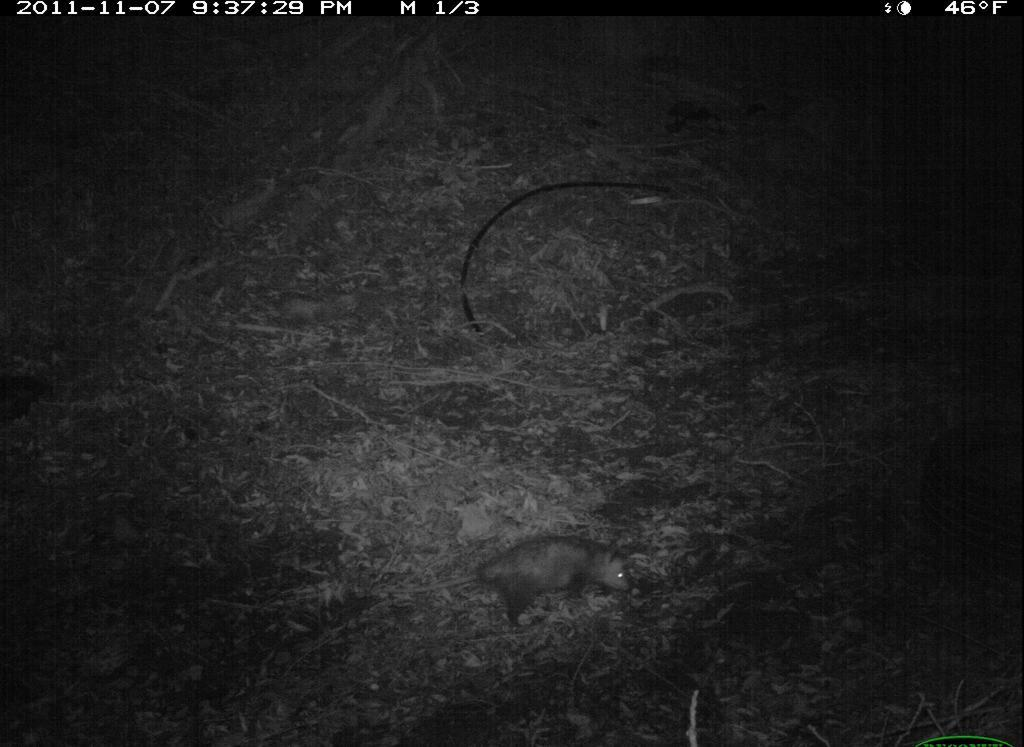opossum: (474, 538, 637, 623)
